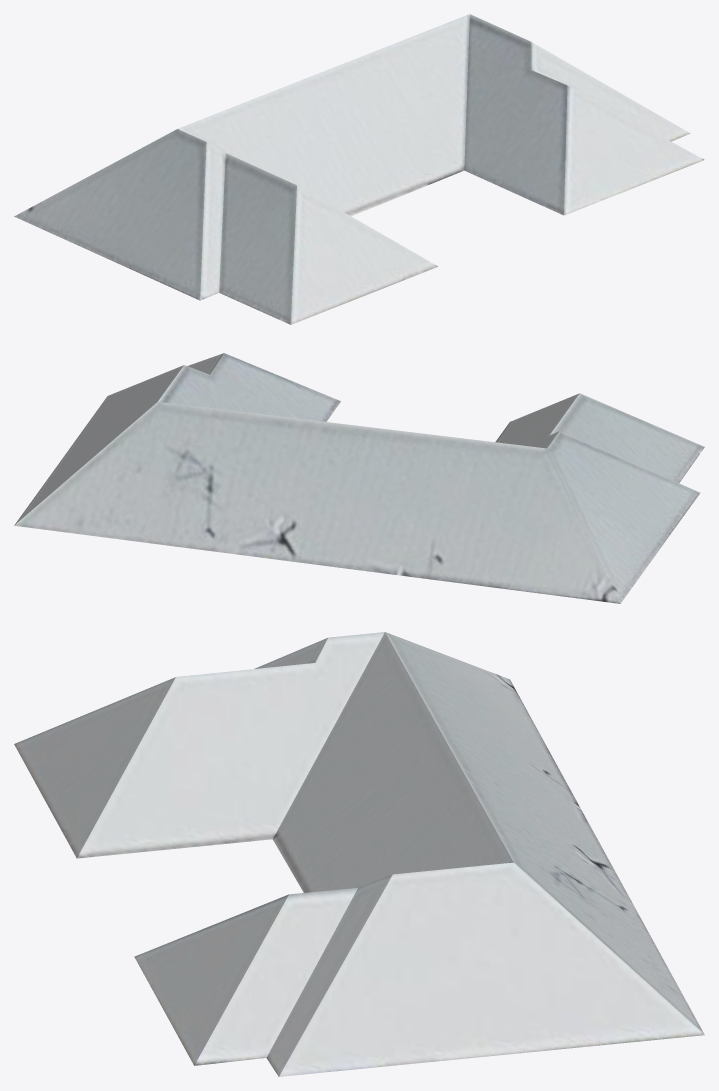
The model's file is BK39_500_016027_0096_roof.obj.
The picture shows the model from 3 angles, top to bottom: view 1: azimuth 30°, elevation 25°; view 2: azimuth 150°, elevation 25°; view 3: azimuth 270°, elevation 25°; orthographic projection. The views are drawn at different scales.
Parts seen in each view (by area): view 1: BK39_500_016027_0096_roof; view 2: BK39_500_016027_0096_roof; view 3: BK39_500_016027_0096_roof.
Boxes of the visible parts, box(x1,y1,x2,y2) form: BK39_500_016027_0096_roof: box(14, 14, 704, 324); BK39_500_016027_0096_roof: box(14, 353, 704, 603); BK39_500_016027_0096_roof: box(14, 632, 704, 1076).
Bounding box in the file's own units: 472 × 70 × 346.
Materials: 1 (1 with a texture image).
